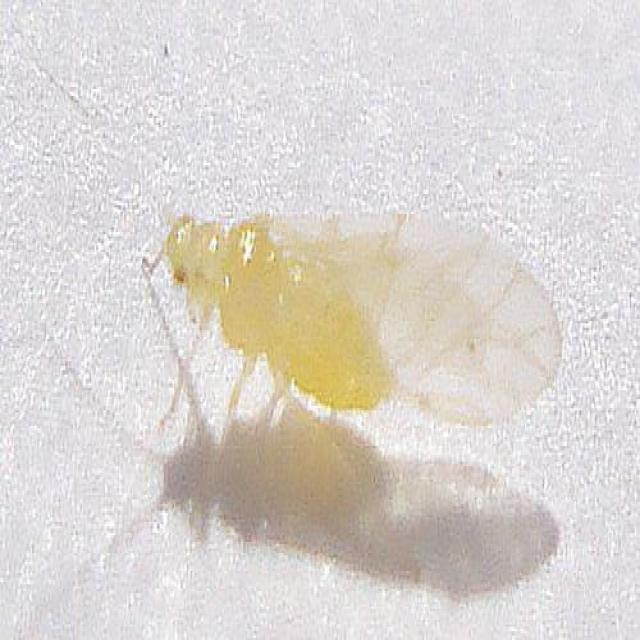Aphids: (60, 102, 572, 521)
